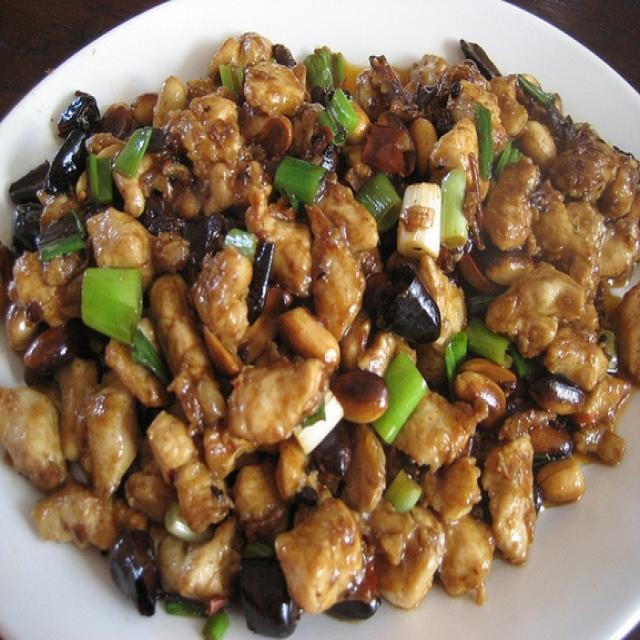鸡肉料理 含炸鸡: (15, 18, 618, 615)
